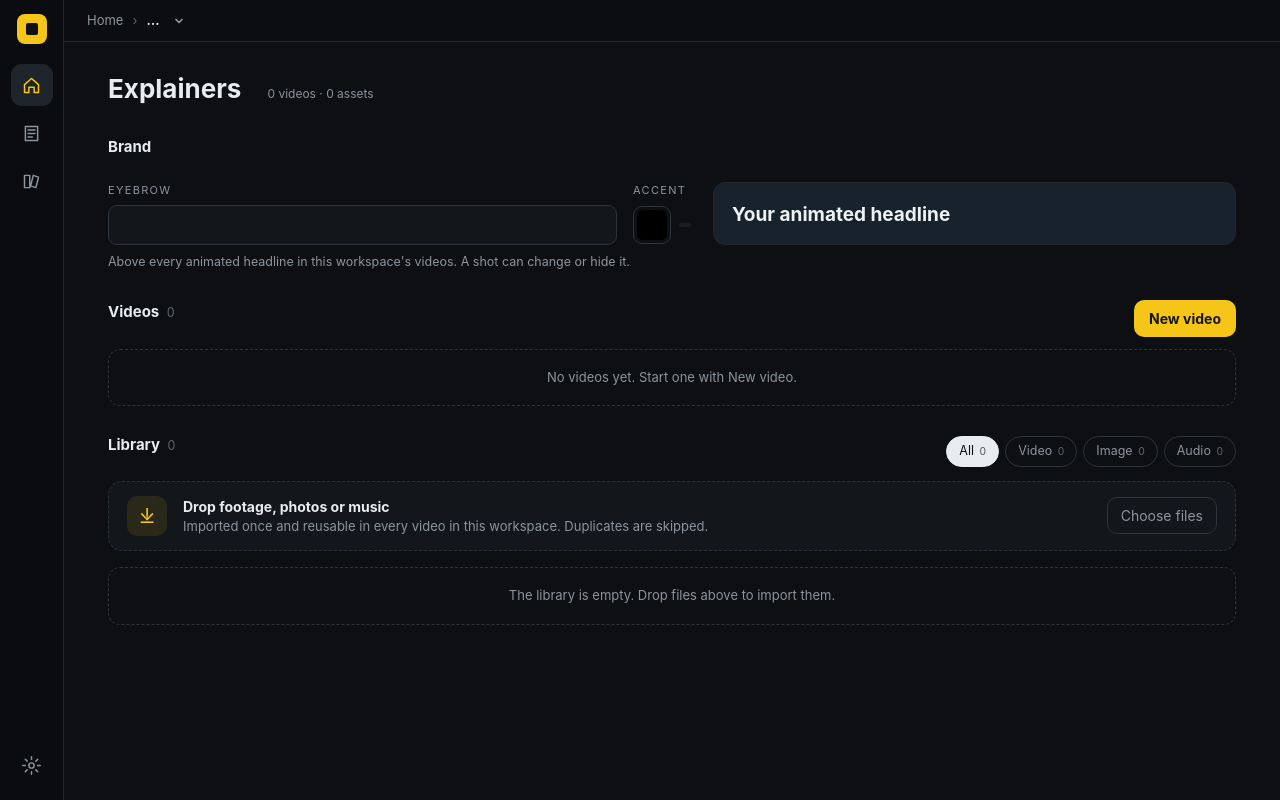
From an idea (Home) and From a script (Workspace page) › the Workspace page's New video menu opens the same sheet
Click the button "New video" at (1185, 318), box [1134,300,1236,336]
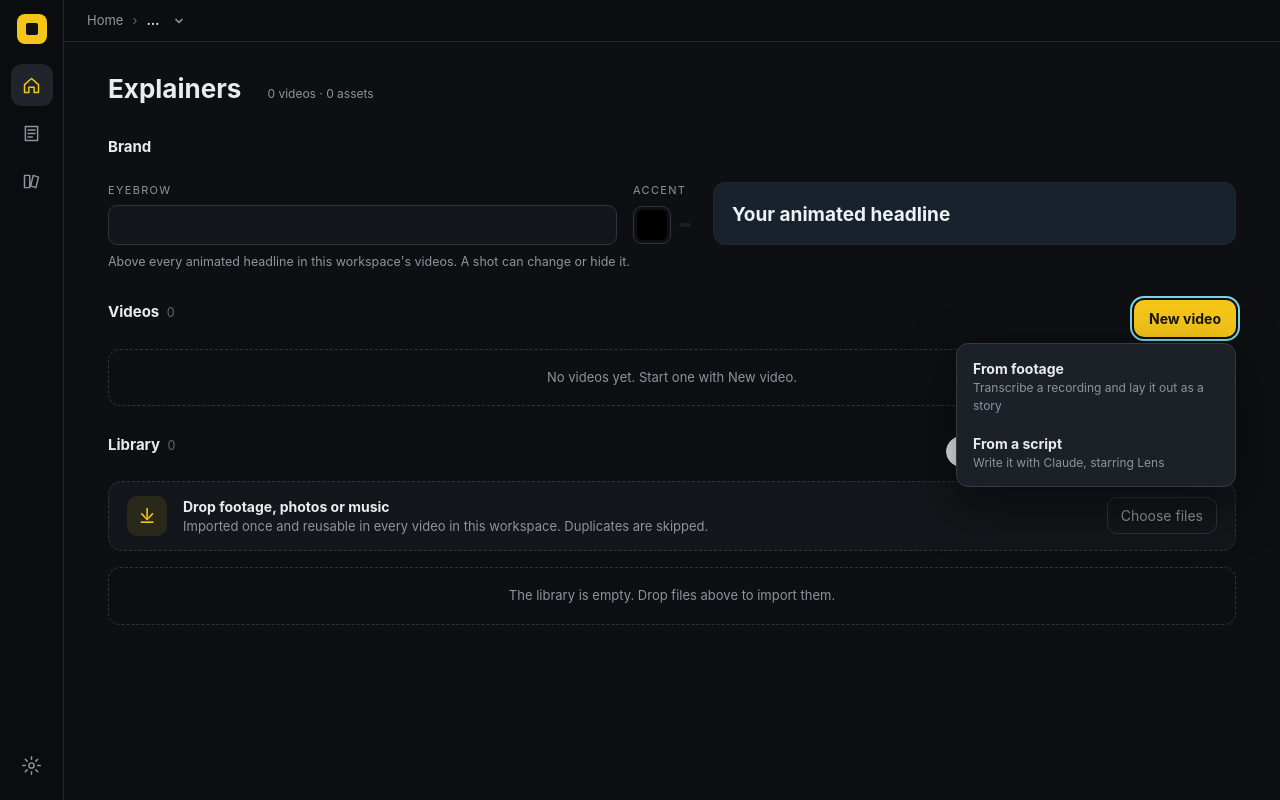
Click the menu item "From a script Write it with Claude, starring Lens" at (1096, 452), box [962,424,1230,480]
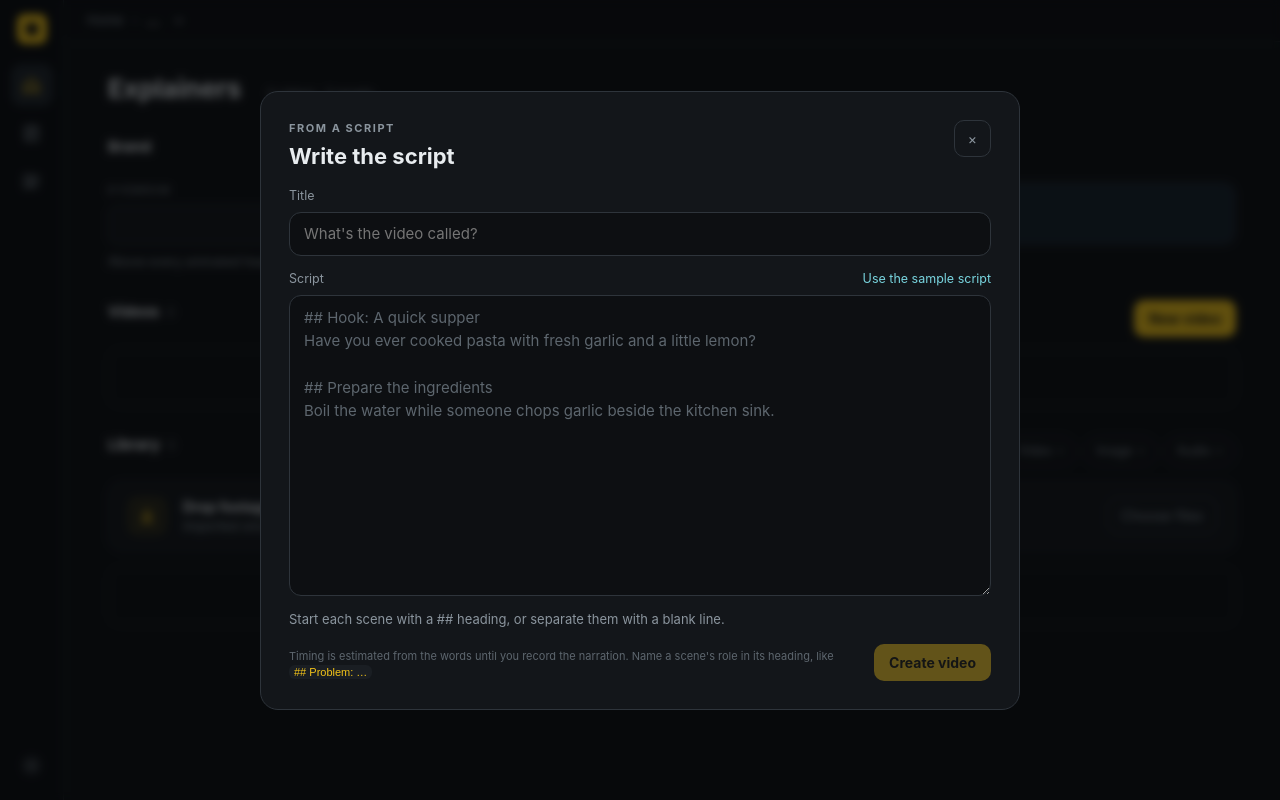
Result: the text "From a script" is shown at [289,120,395,134]
Result: the heading "Write the script" is shown at [289,143,455,169]
